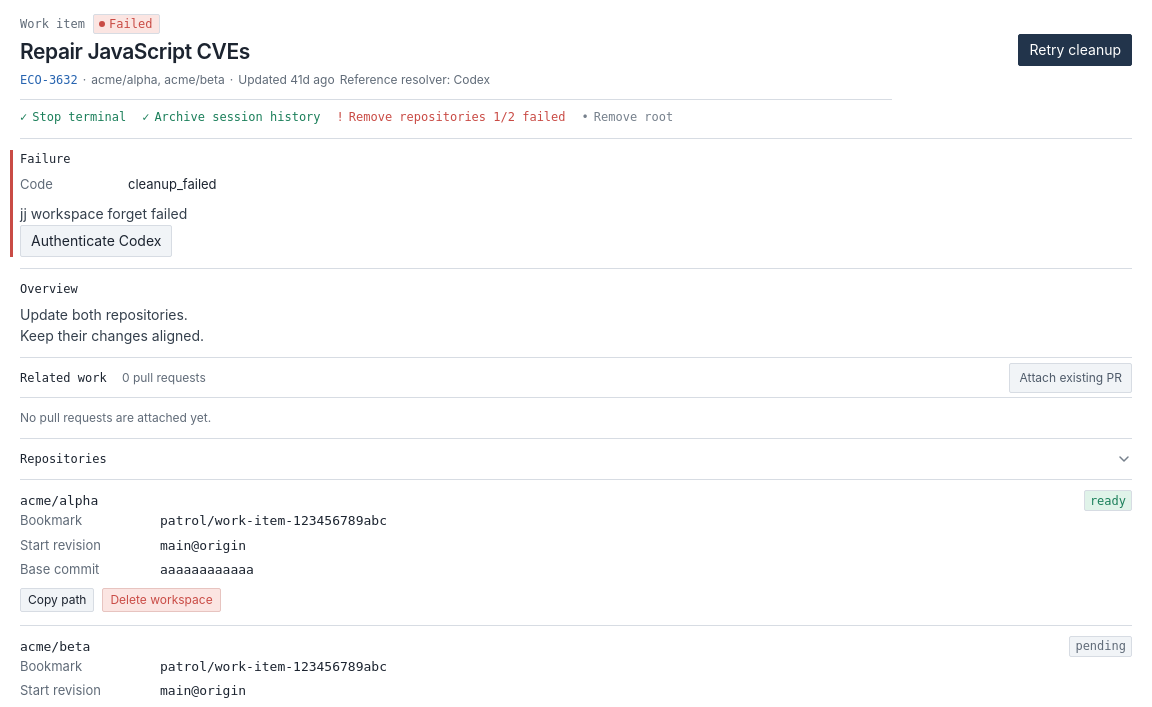
Test: cleanup failure shows one retry, retained root, and copy feedback
Expected: the button "Retry cleanup" is shown, [1018,34,1132,66]
Expected: the list item "Remove repositories 1/2 failed" is shown, [337,108,566,126]
Click the button "Authenticate Codex": x=96, y=241 [20,225,172,257]
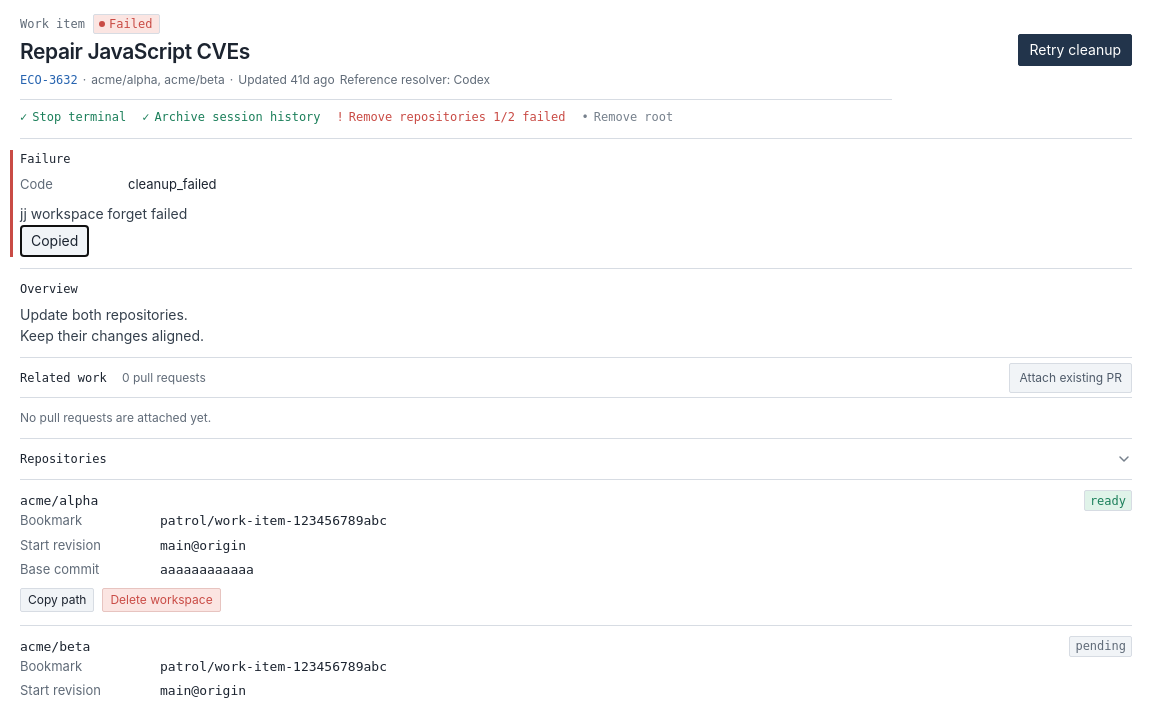
Expected: the button "Copied" is shown, [20,225,89,257]
